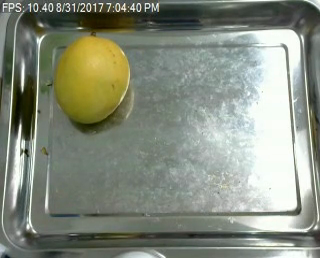Mango: (53, 37, 128, 124)
